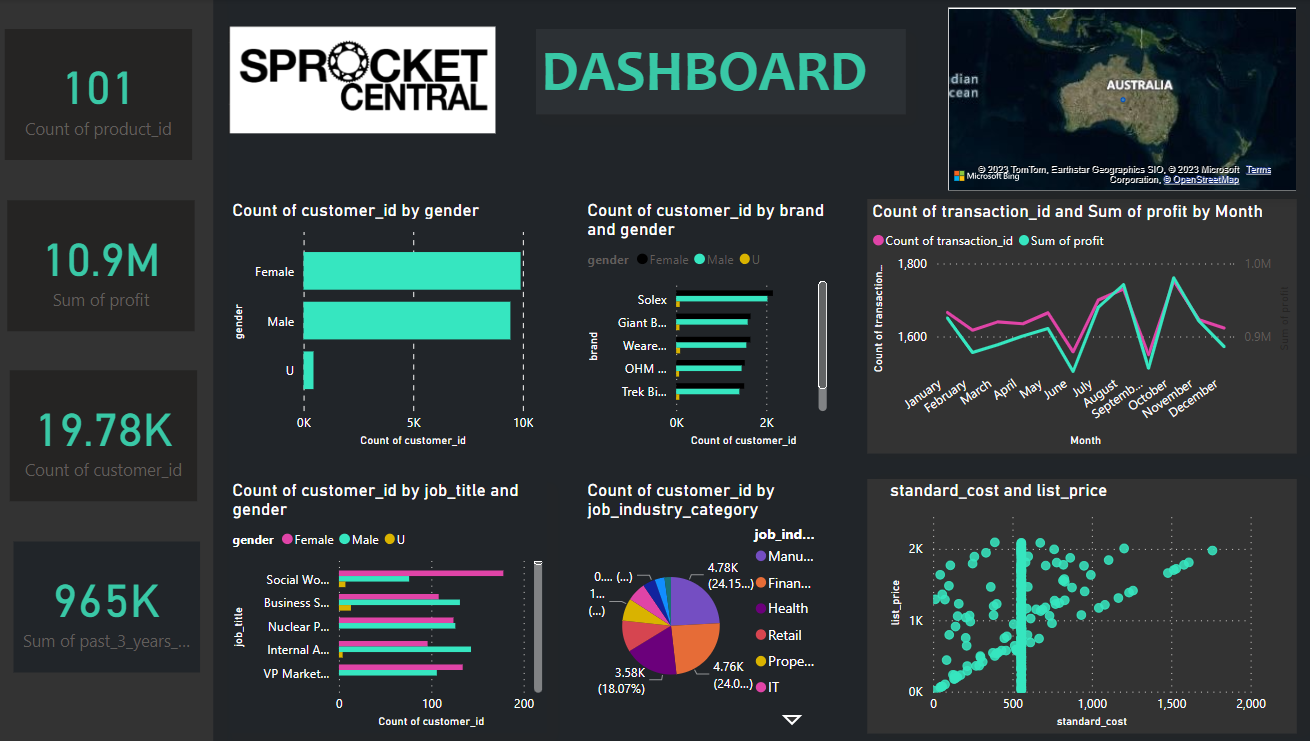

The page's visual inventory and layout, read from the dashboard file:
{"tool":"powerbi","page":{"name":"Page 1","canvas":[1280,720],"ordinal":0},"visuals":[{"type":"shape","box":[0,0,209.8,719.8],"z":0},{"type":"shape","box":[840.5,193.3,414.1,245.4],"z":1000},{"type":"shape","box":[840.5,463.4,414.1,245.4],"z":4000},{"type":"image","box":[219.5,0,267.7,155.6],"z":5000},{"type":"textbox","box":[521,28.9,357,82],"z":6000},{"type":"card","fields":{"Values":["Sum(merged_data (2).profit)"]},"box":[11,193.8,181,126.1],"z":7000},{"type":"card","fields":{"Values":["CountNonNull(merged_data (2).customer_id)"]},"box":[13.7,358.8,181,126.1],"z":8000},{"type":"card","fields":{"Values":["Count(merged_data (2).product_id)"]},"box":[8.2,28.8,181,126.1],"z":9000},{"type":"card","fields":{"Values":["Sum(merged_data (2).past_3_years_bike_related_purchases)"]},"box":[16.5,523.7,179.6,126.1],"z":10000},{"type":"map","fields":{"Category":["merged_data (2).country"]},"box":[919,8.4,335.3,176.1],"z":11000},{"type":"clusteredBarChart","fields":{"Category":["merged_data (2).gender"],"Y":["CountNonNull(merged_data (2).customer_id)"]},"box":[223.1,193,300.3,243.6],"z":12000},{"type":"clusteredBarChart","fields":{"Series":["merged_data (2).gender"],"Category":["merged_data (2).job_title"],"Y":["CountNonNull(merged_data (2).customer_id)"]},"box":[223.1,463.1,308.7,244.8],"z":13000},{"type":"clusteredBarChart","fields":{"Series":["merged_data (2).gender"],"Category":["merged_data (2).brand"],"Y":["CountNonNull(merged_data (2).customer_id)"]},"box":[565.6,193,241.2,243.6],"z":14000},{"type":"pieChart","fields":{"Category":["merged_data (2).job_industry_category"],"Y":["CountNonNull(merged_data (2).customer_id)"]},"box":[565.6,463.1,241.2,244.8],"z":15000},{"type":"lineChart","fields":{"Y":["CountNonNull(merged_data (2).transaction_id)"],"Category":["merged_data (2).transaction_date.Variation.Date Hierarchy.Month"],"Y2":["Sum(merged_data (2).profit)"]},"box":[840.6,194.2,413.7,242.4],"z":16000},{"type":"scatterChart","fields":{"X":["merged_data (2).standard_cost"],"Y":["merged_data (2).list_price"]},"box":[857.5,463.1,372.7,244.8],"z":17000}]}

Visuals, with their boxes in screenshot pixels (x1, y1, x2, y2), scaled from the page's 1280x720 canvas onto the 1310x741 screenshot:
shape: BBox(0, 0, 215, 740)
shape: BBox(860, 199, 1284, 451)
shape: BBox(860, 477, 1284, 729)
image: BBox(225, 0, 499, 160)
textbox: BBox(533, 30, 899, 114)
card - Sum(merged_data (2).profit): BBox(11, 199, 196, 329)
card - CountNonNull(merged_data (2).customer_id): BBox(14, 369, 199, 499)
card - Count(merged_data (2).product_id): BBox(8, 30, 194, 159)
card - Sum(merged_data (2).past_3_years_bike_related_purchases): BBox(17, 539, 201, 669)
map - merged_data (2).country: BBox(941, 9, 1284, 190)
clusteredBarChart - merged_data (2).gender x CountNonNull(merged_data (2).customer_id): BBox(228, 199, 536, 449)
clusteredBarChart - merged_data (2).gender x merged_data (2).job_title: BBox(228, 477, 544, 729)
clusteredBarChart - merged_data (2).gender x merged_data (2).brand: BBox(579, 199, 826, 449)
pieChart - merged_data (2).job_industry_category x CountNonNull(merged_data (2).customer_id): BBox(579, 477, 826, 729)
lineChart - CountNonNull(merged_data (2).transaction_id) x merged_data (2).transaction_date.Variation.Date Hierarchy.Month: BBox(860, 200, 1284, 449)
scatterChart - merged_data (2).standard_cost x merged_data (2).list_price: BBox(878, 477, 1259, 729)
